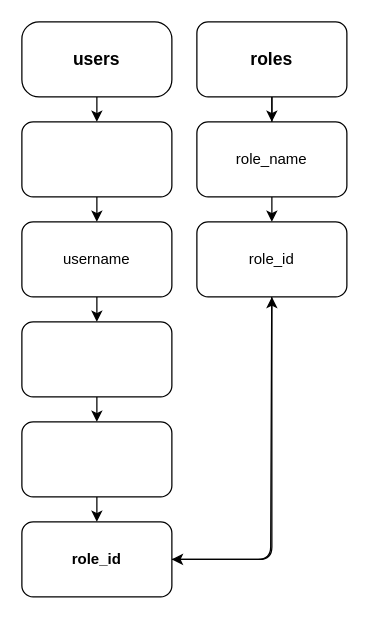
The diagram is 369 pixels wide and 619 high, and some of its shapes have lost their labels. The box of each missing label's shape, as (x1, y1, x2, y2) in pixels:
email: (21, 321, 172, 397)
password: (21, 421, 172, 497)
user_id: (21, 121, 172, 197)
